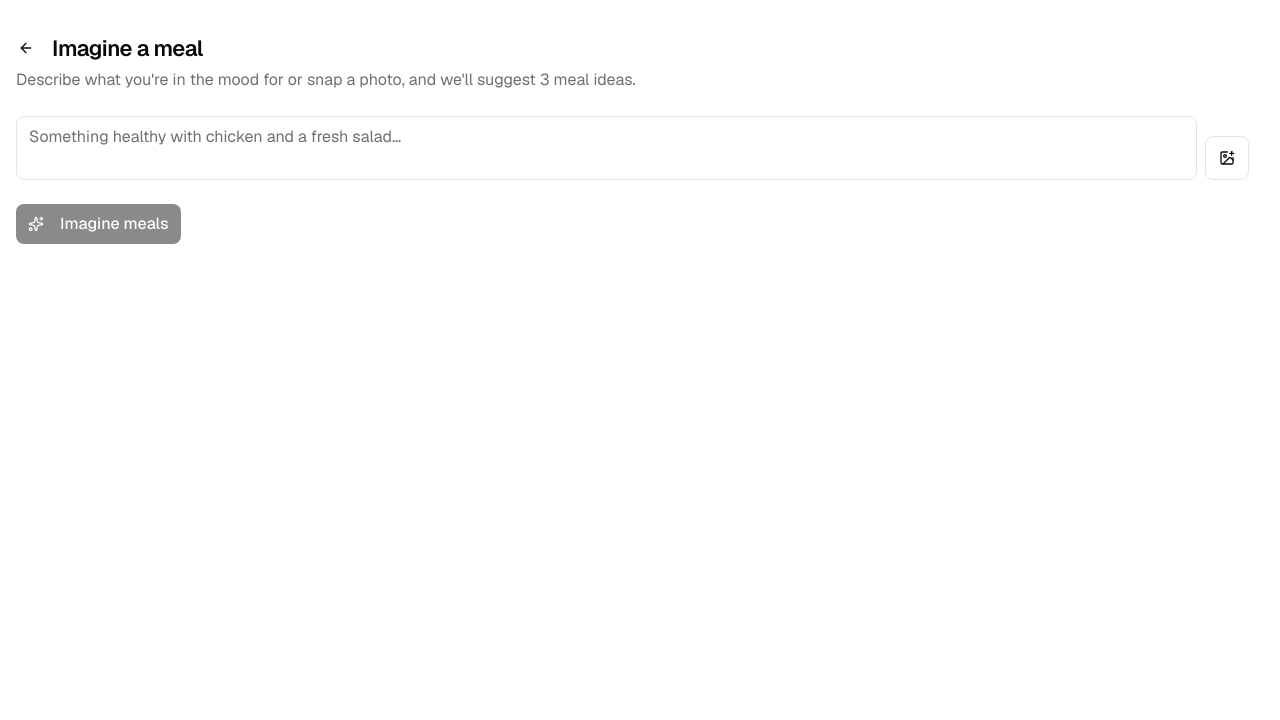
it: ImagineClient focus and announcements (HON-1366) › moves focus to the prompt field after Cancel by a click
Type "something with lentils" into the text box named "describe" at (606, 148), box [16, 116, 1197, 180]
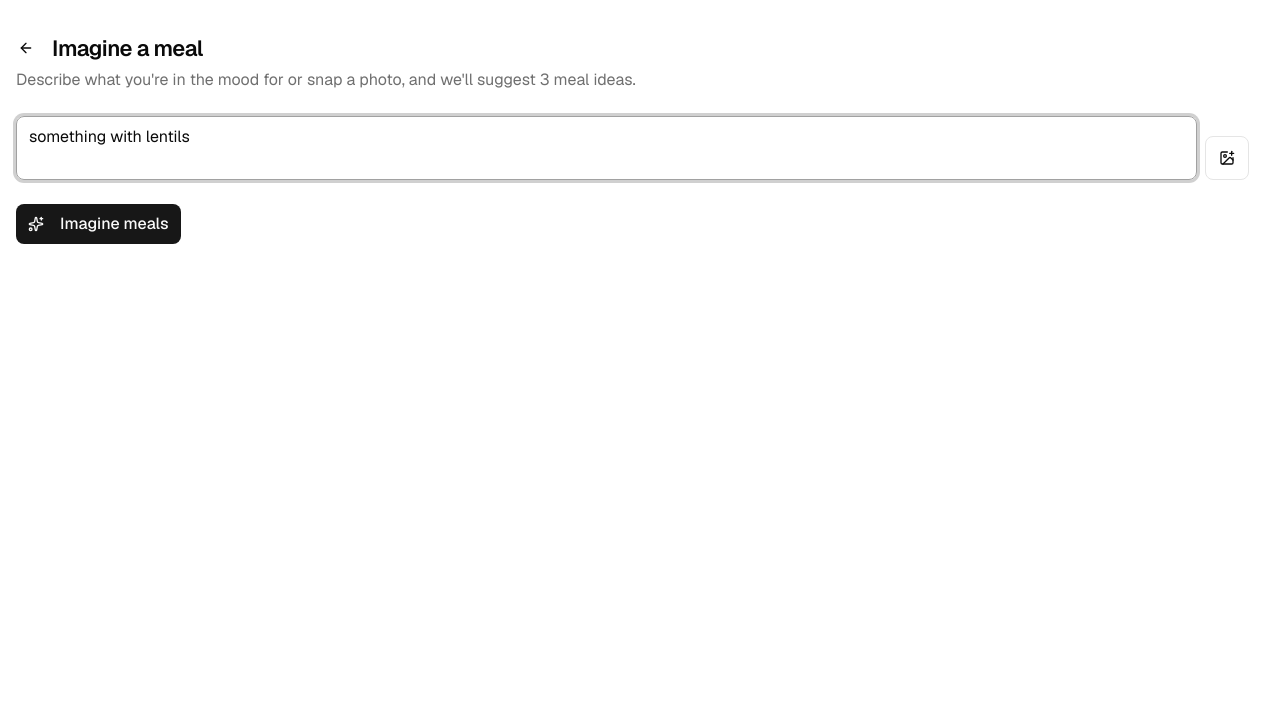
Click the button "Imagine meals" at (98, 224), box [16, 204, 181, 244]
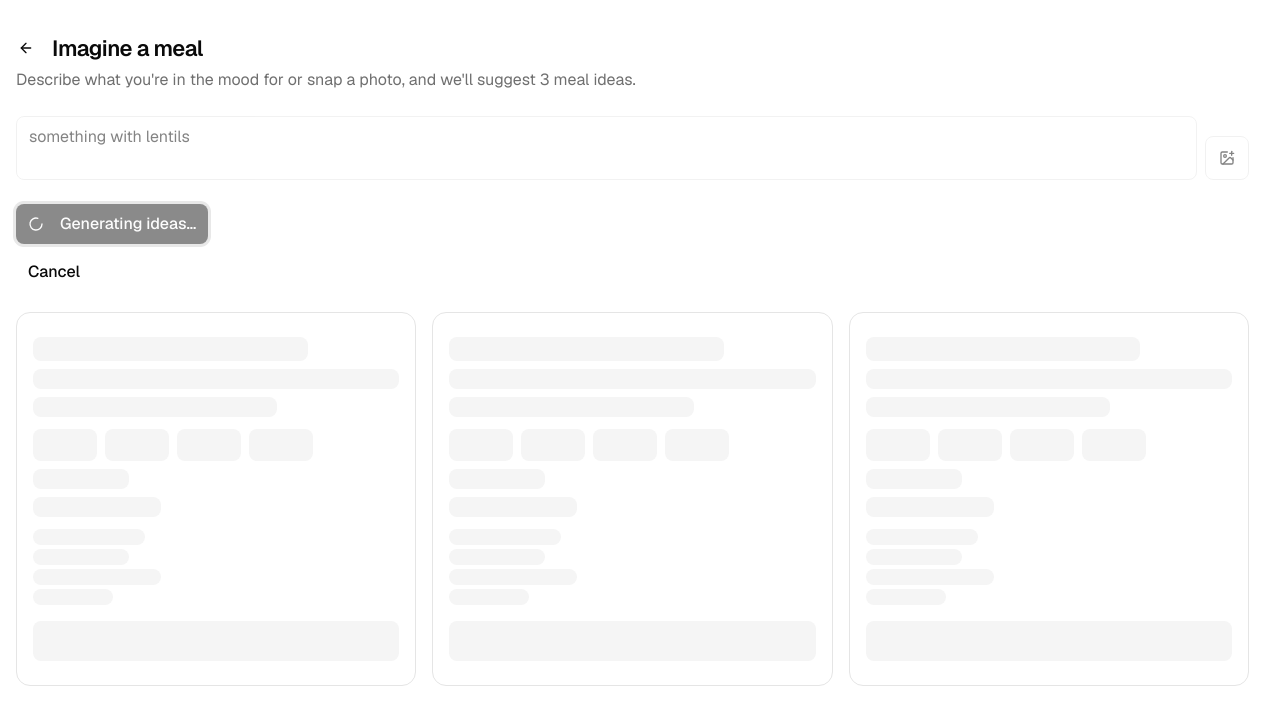
Click the button "Cancel" at (54, 272), box [16, 256, 92, 288]
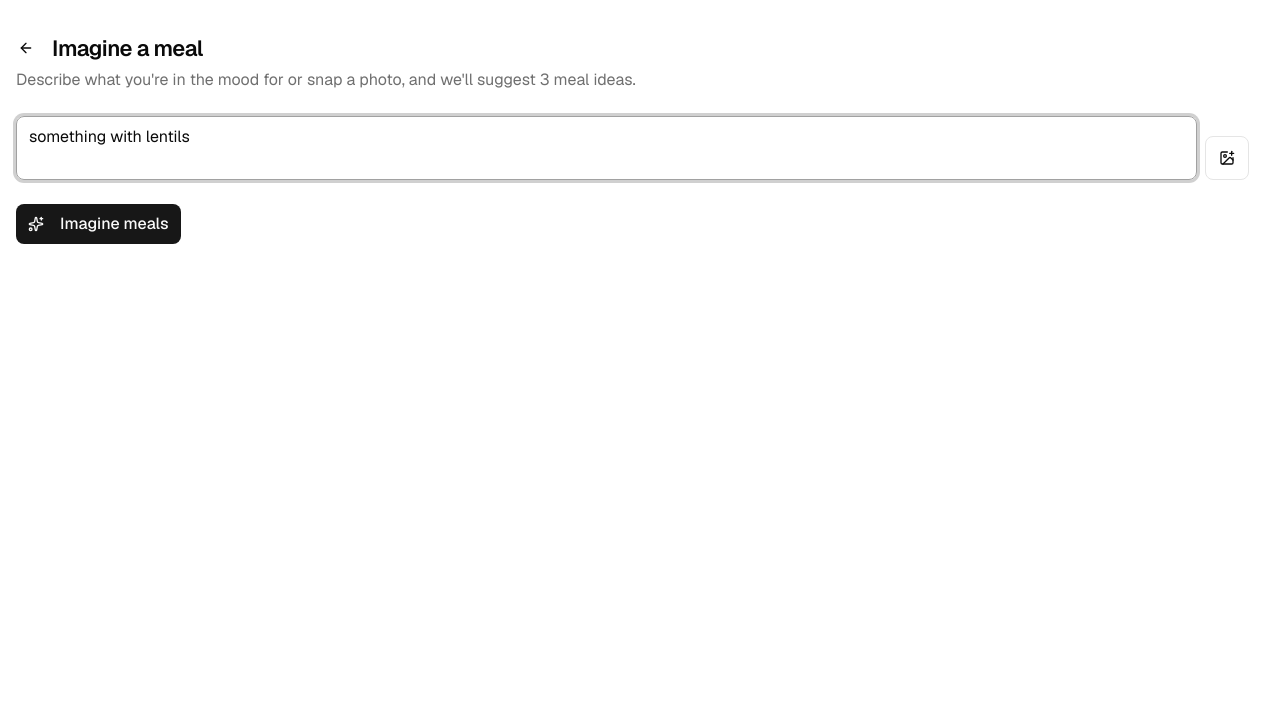
Check: the button "Cancel" is gone
